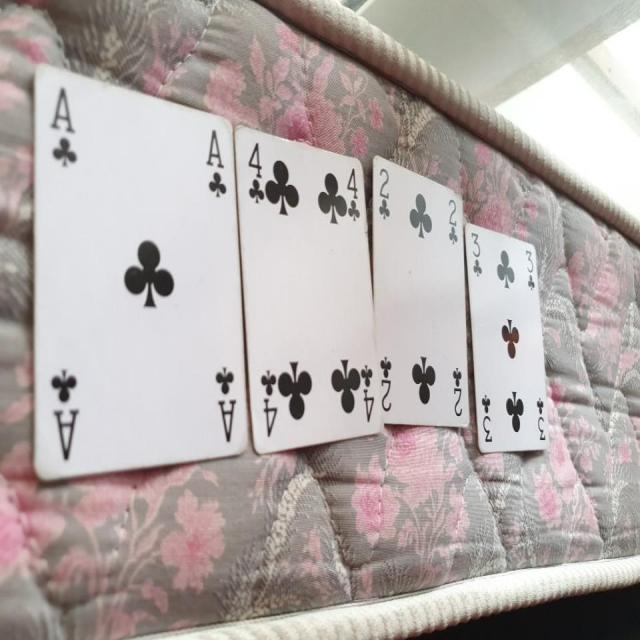2 Trefoils: (369, 152, 472, 431)
3 Trefoils: (463, 222, 551, 452)
4 Trefoils: (235, 121, 385, 455)
A Trefoils: (30, 60, 250, 482)
